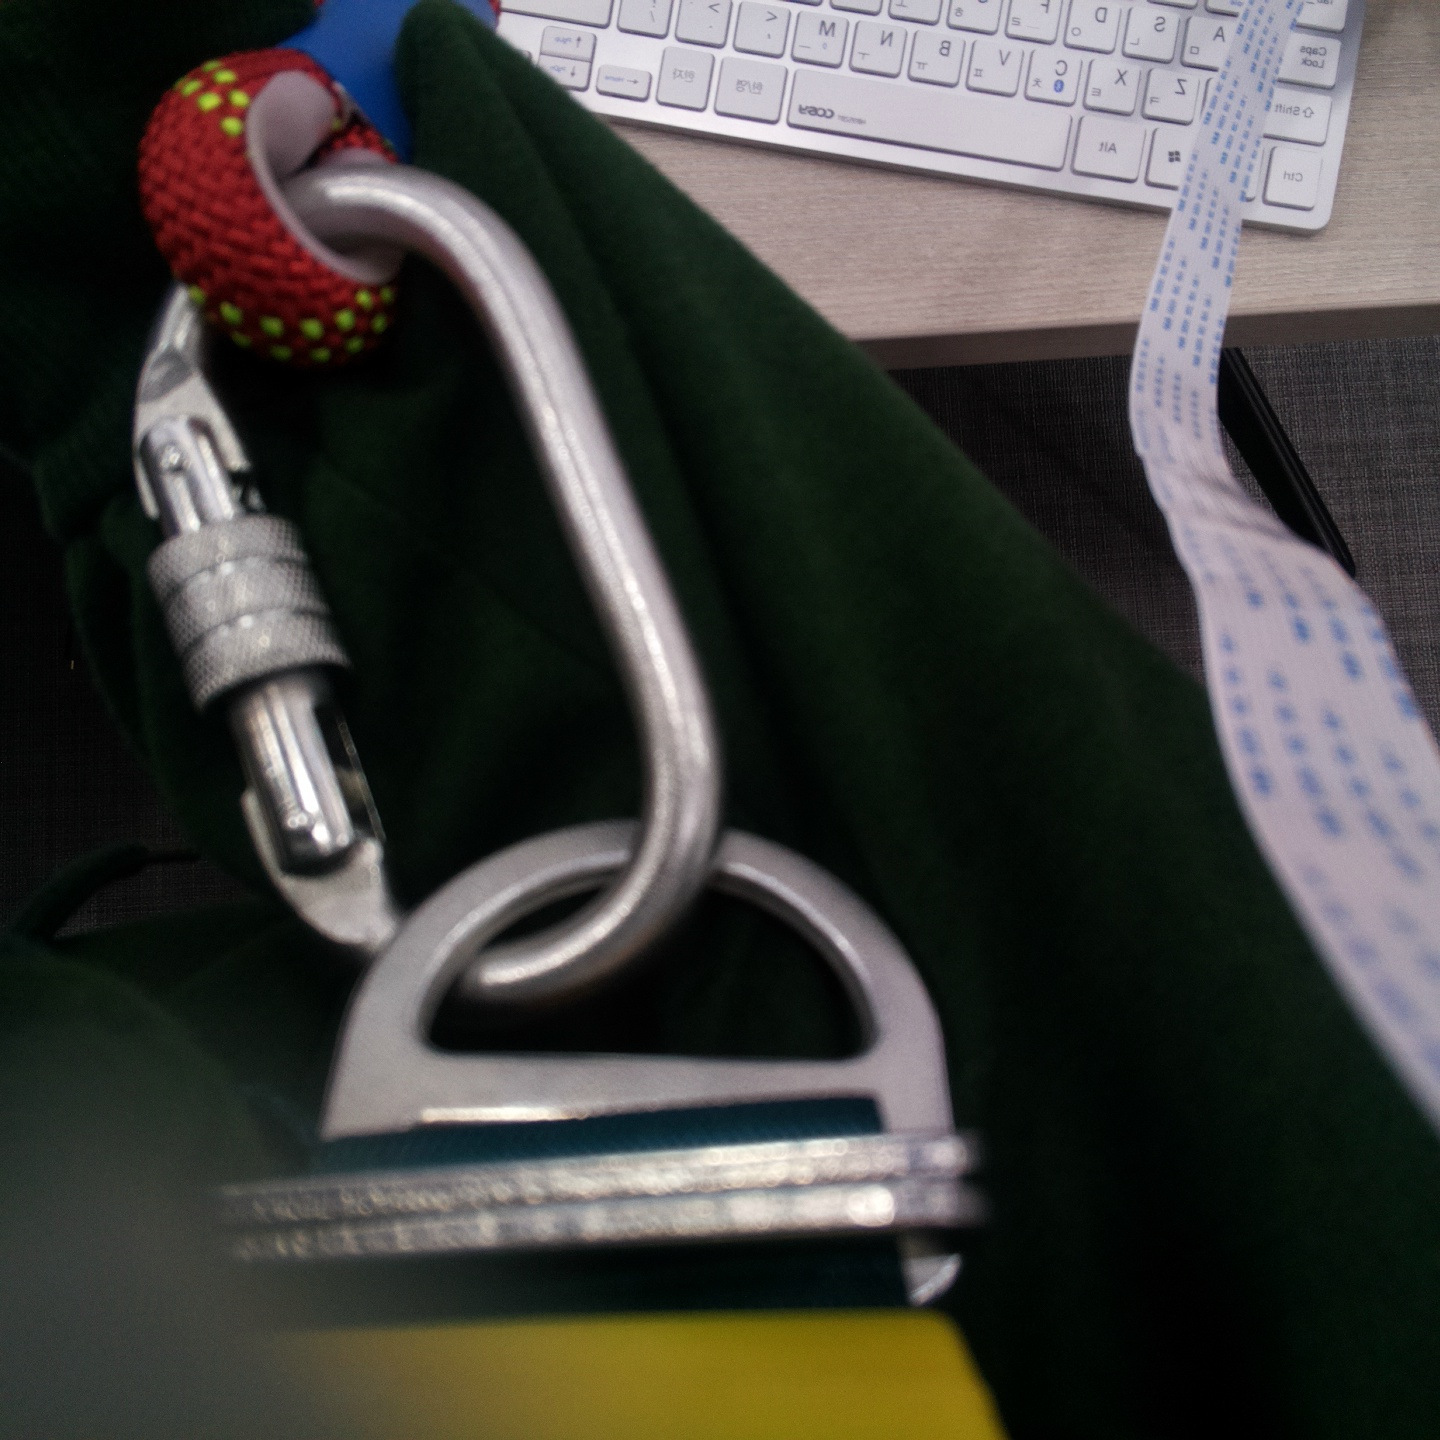SUCCESS: (136, 444, 735, 791)
